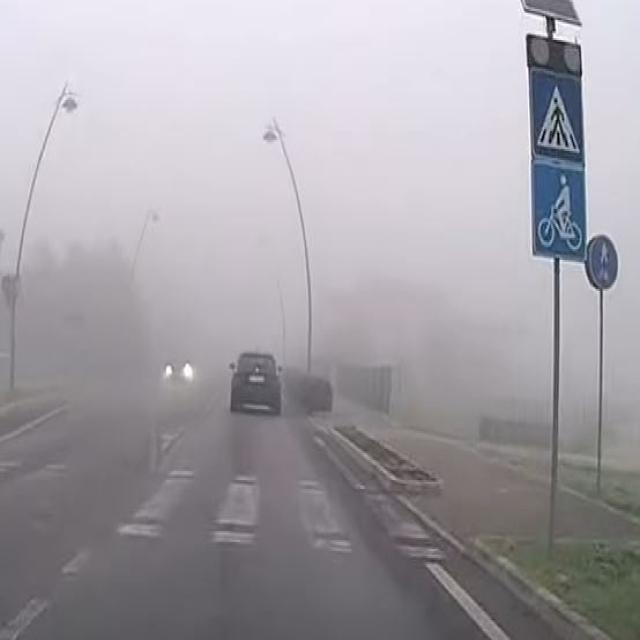Pedestrian crosswalk: (9, 447, 451, 561), (530, 68, 586, 158)
